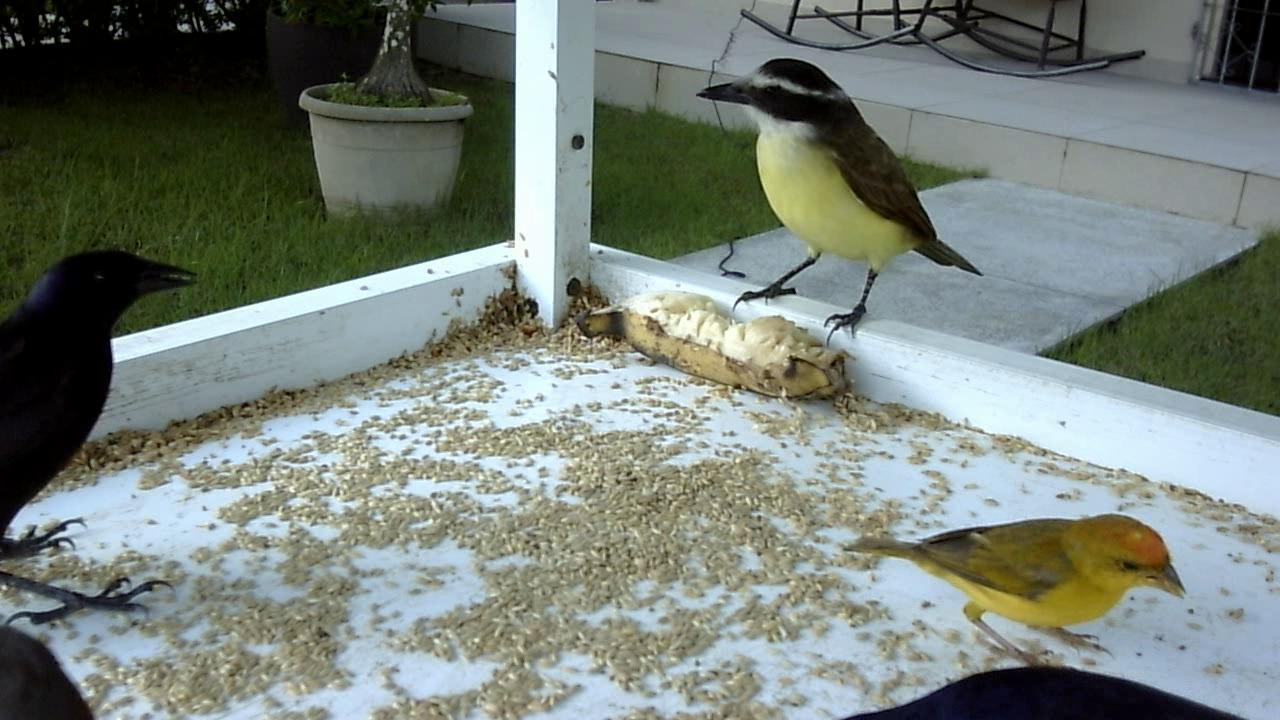bem_te_vi: (680, 48, 1002, 362)
canario_do_amazonas: (857, 504, 1193, 677)
chupim: (1, 231, 203, 639)
